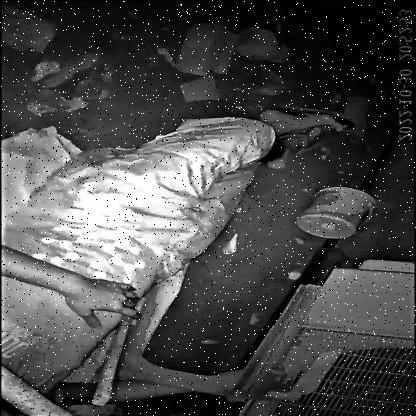hand: (0, 243, 150, 332)
leg: (240, 100, 350, 138)
